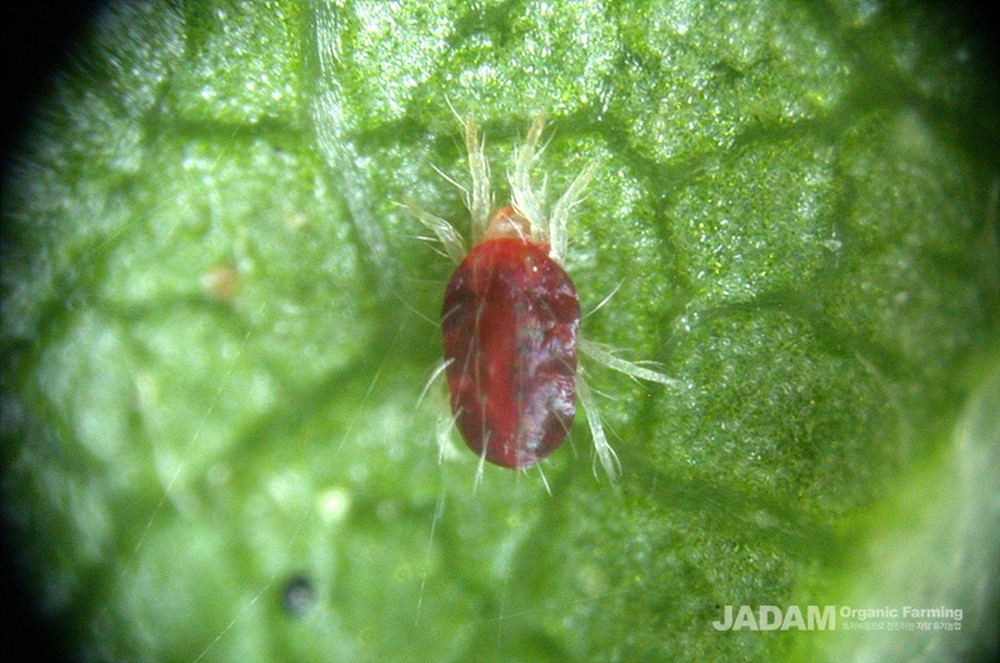Aracnido Rojo: (389, 121, 693, 508)
